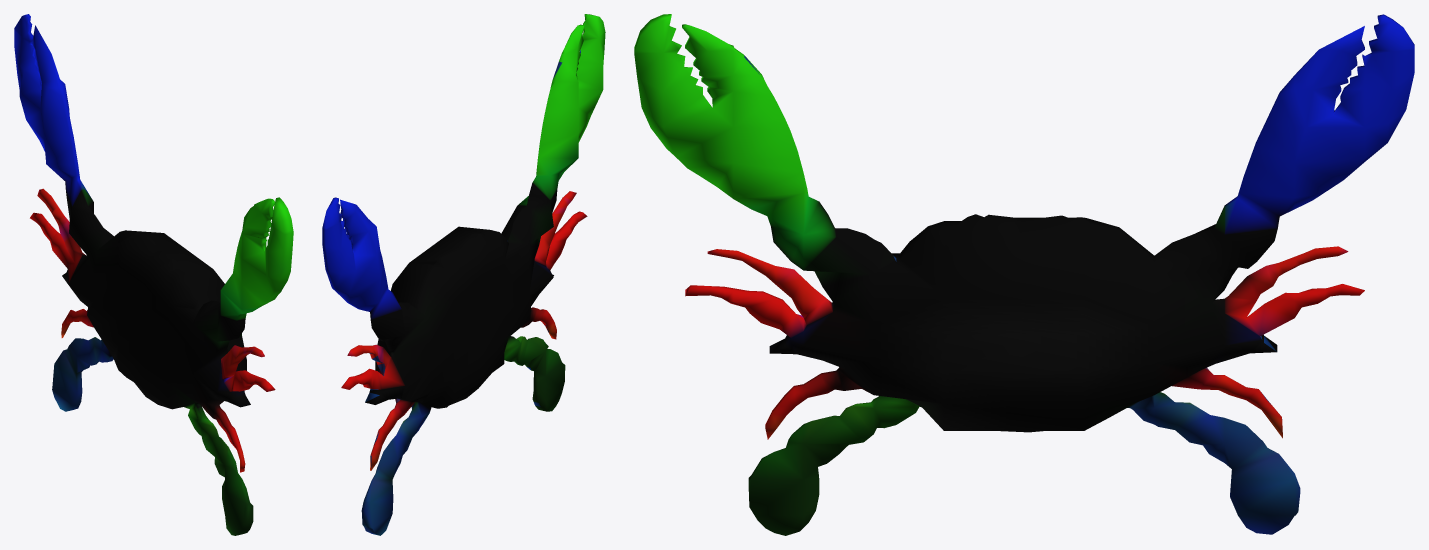
Rendered from crab15.fbx.
3 renders of one model, left to right at view 1: azimuth 30°, elevation 25°; view 2: azimuth 150°, elevation 25°; view 3: azimuth 270°, elevation 25°, orthographic. The views are drawn at different scales.
Visible parts, largest first — view 1: 8b5fcca9-0bd1-453d-b090-de07f664e9b1; view 2: 8b5fcca9-0bd1-453d-b090-de07f664e9b1; view 3: 8b5fcca9-0bd1-453d-b090-de07f664e9b1.
Boxes of the visible parts, x1,y1,x2,y2 form: 8b5fcca9-0bd1-453d-b090-de07f664e9b1: (14, 14, 293, 535); 8b5fcca9-0bd1-453d-b090-de07f664e9b1: (322, 14, 605, 535); 8b5fcca9-0bd1-453d-b090-de07f664e9b1: (634, 14, 1414, 535).
Size of the model in its own units: 0.1719 by 0.9065 by 1.24.
